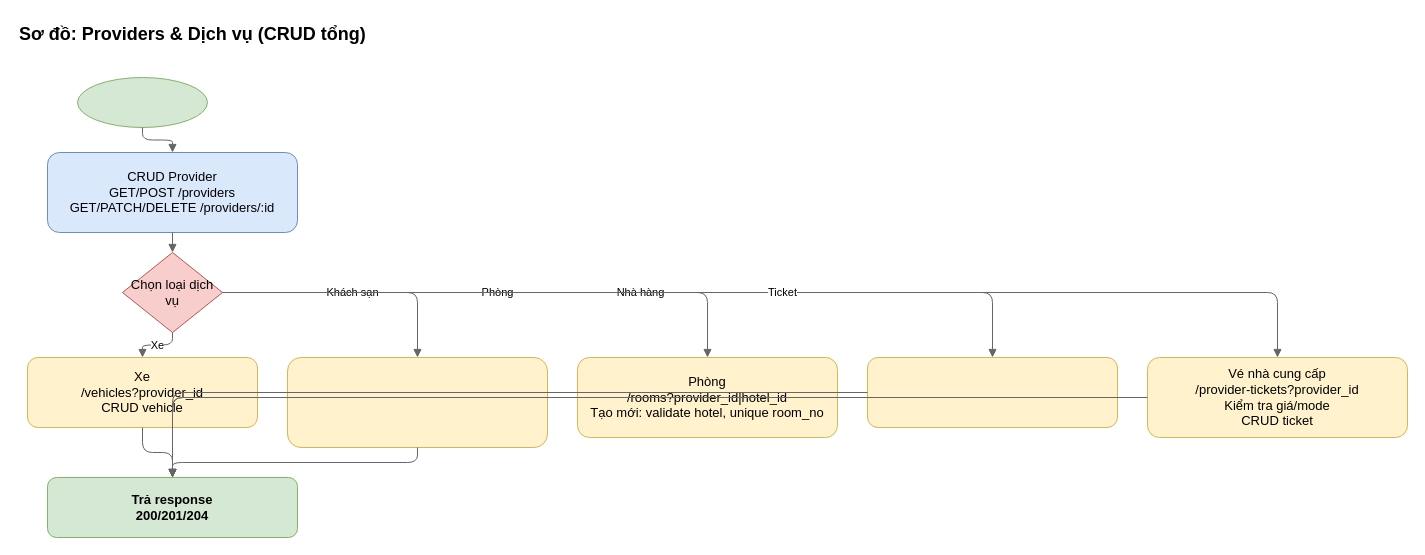
The diagram is 1425 pixels wide and 555 high, and some of its shapes have lost their labels. The shapes that lost their labels are listed below. From the top down, each one's centre as x and y in pixels, then its label:
At (x=142, y=102): "Bắt đầu".
At (x=417, y=402): "Khách sạn /hotels?provider_id CRUD hotel Xoá hotel → deleteMany rooms".
At (x=992, y=392): "Nhà hàng /restaurants?provider_id Tạo mới: capacity >= 1".
